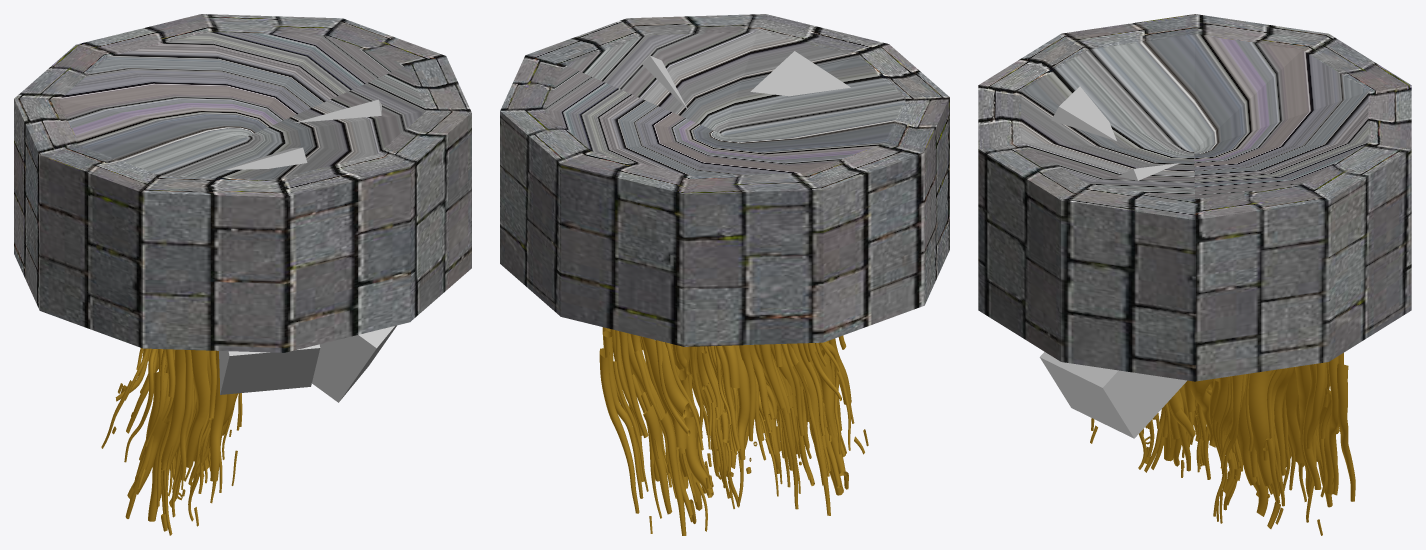
Rendered from fire.fbx.
3 renders of one model, left to right at view 1: azimuth 30°, elevation 25°; view 2: azimuth 150°, elevation 25°; view 3: azimuth 270°, elevation 25°, orthographic. The views are drawn at different scales.
Visible parts, largest first — view 1: pPipe1, flameFine1Main, pCube2, pCube3, pCube1, pCube4; view 2: pPipe1, flameFine1Main, pCube1, pCube4; view 3: pPipe1, flameFine1Main, pCube3, pCube1.
Part boxes in pixels (bbox=[...]): pPipe1: bbox=[14, 14, 471, 352]; flameFine1Main: bbox=[101, 348, 242, 535]; pCube2: bbox=[219, 344, 320, 394]; pCube3: bbox=[312, 325, 396, 402]; pCube1: bbox=[226, 147, 307, 169]; pCube4: bbox=[294, 99, 381, 122]; pPipe1: bbox=[500, 14, 949, 346]; flameFine1Main: bbox=[599, 327, 868, 535]; pCube1: bbox=[654, 51, 850, 340]; pCube4: bbox=[642, 55, 688, 110]; pPipe1: bbox=[978, 14, 1411, 381]; flameFine1Main: bbox=[1090, 353, 1355, 535]; pCube3: bbox=[1039, 352, 1186, 438]; pCube1: bbox=[1051, 86, 1116, 141].
Bounding box in the file's own units: 2.35 × 2.25 × 2.09.
